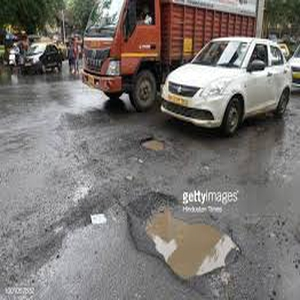pothole: (118, 189, 245, 286), (141, 136, 170, 154)
